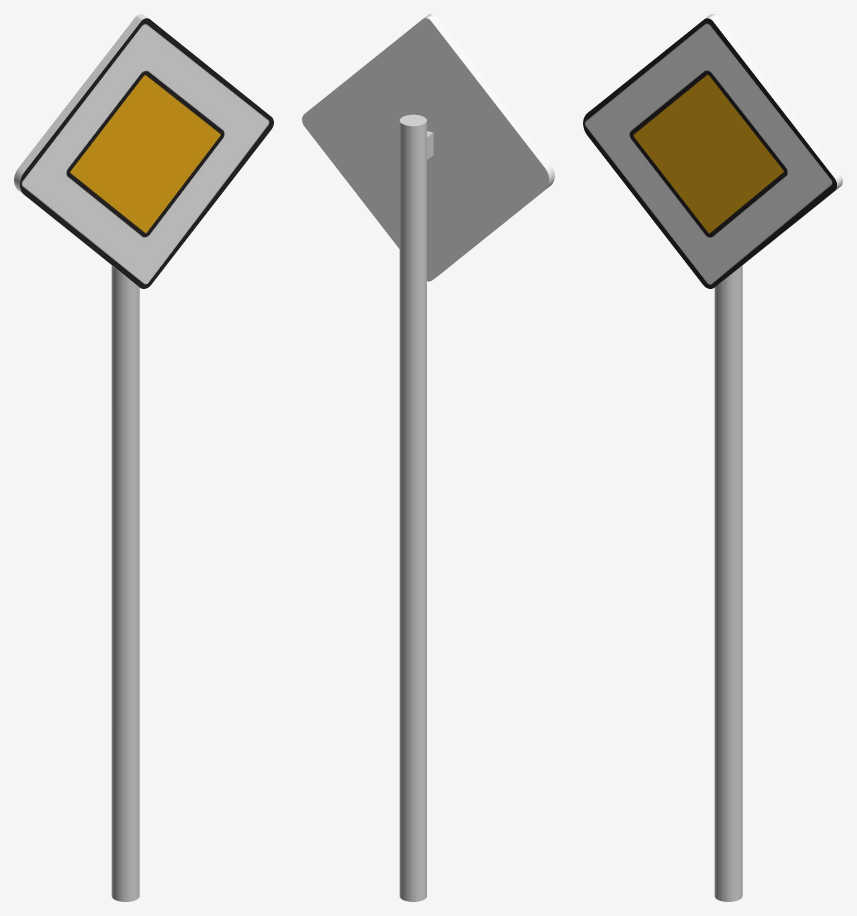
The model's file is hlhlznacka.fbx.
The picture shows the model from 3 angles, left to right: view 1: azimuth 30°, elevation 25°; view 2: azimuth 150°, elevation 25°; view 3: azimuth 330°, elevation 25°; orthographic projection. The views are drawn at different scales.
Visible parts, largest first — view 1: Cube; view 2: Cube; view 3: Cube.
Boxes of the visible parts, bbox=[...] form: Cube: bbox=[14, 14, 273, 901]; Cube: bbox=[302, 14, 554, 901]; Cube: bbox=[583, 14, 842, 901].
Bounding box in the file's own units: 93.19 × 313 × 17.07.
Materials: 2 (1 with a texture image).
